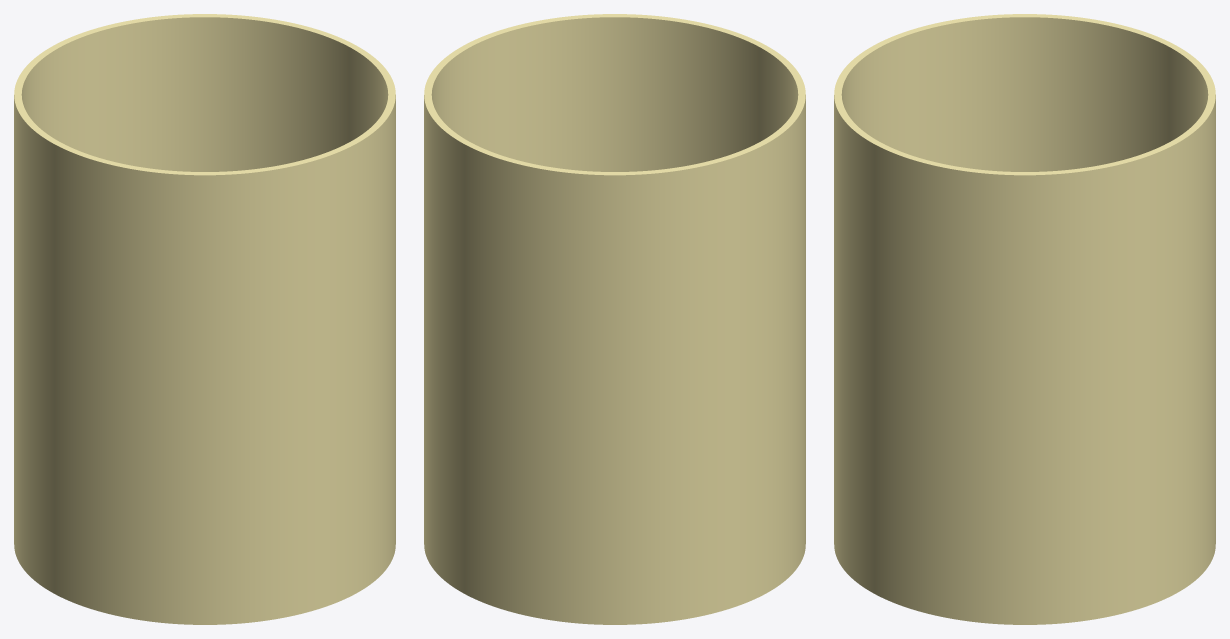
Rendered from DomesFoot.glb.
The picture shows the model from 3 angles, left to right: view 1: azimuth 30°, elevation 25°; view 2: azimuth 150°, elevation 25°; view 3: azimuth 270°, elevation 25°; orthographic projection.
Visible parts, largest first — view 1: Object002; view 2: Object002; view 3: Object002.
Part boxes in pixels (x1=…): Object002: x1=14, y1=14, x2=395, y2=624; Object002: x1=424, y1=14, x2=805, y2=624; Object002: x1=834, y1=14, x2=1215, y2=624.
Size of the model in its own units: 0.1 by 0.13 by 0.1.
